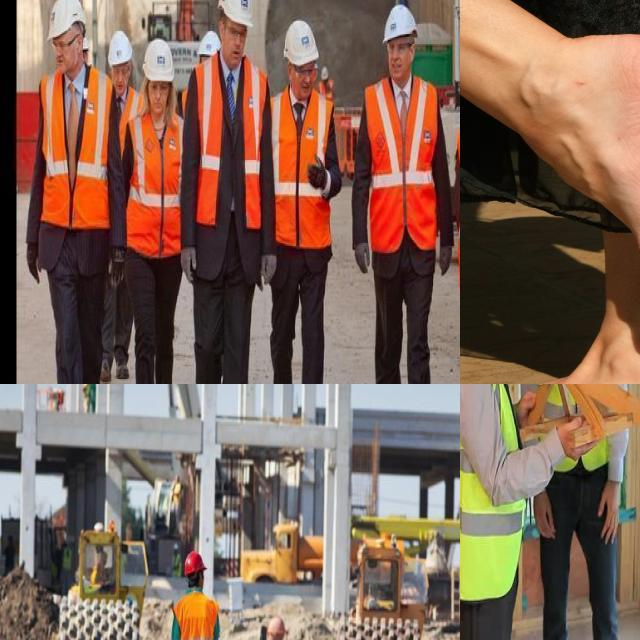Barefoots: (577, 34, 640, 329)
face_nomask: (51, 28, 83, 77), (385, 36, 412, 84), (145, 73, 168, 119), (289, 61, 317, 96), (222, 21, 246, 61), (111, 62, 128, 92)
glasses: (223, 24, 251, 45), (384, 38, 410, 60), (294, 64, 318, 86)
hand_glove: (174, 239, 200, 287), (257, 244, 281, 290), (108, 242, 129, 293), (306, 153, 328, 200), (24, 236, 41, 284), (436, 239, 456, 277), (351, 240, 372, 275)
hand_noglove: (554, 412, 594, 468), (529, 486, 557, 553), (595, 486, 624, 544), (514, 386, 538, 429)
head_helmet: (140, 36, 178, 84), (283, 18, 320, 67), (47, 0, 87, 44), (382, 4, 419, 44), (217, 0, 256, 26), (108, 29, 133, 62), (180, 548, 206, 572), (194, 33, 221, 54)
person: (22, 0, 117, 384), (186, 0, 270, 384), (361, 0, 435, 384), (526, 384, 628, 640), (270, 14, 336, 384), (129, 35, 187, 384), (460, 384, 524, 640), (102, 31, 135, 381), (177, 554, 216, 640)
vest: (460, 384, 524, 604), (196, 52, 263, 252), (368, 74, 440, 252), (39, 68, 115, 236), (271, 100, 336, 264), (130, 111, 188, 262), (531, 384, 619, 477), (109, 78, 141, 148), (174, 599, 221, 640)
